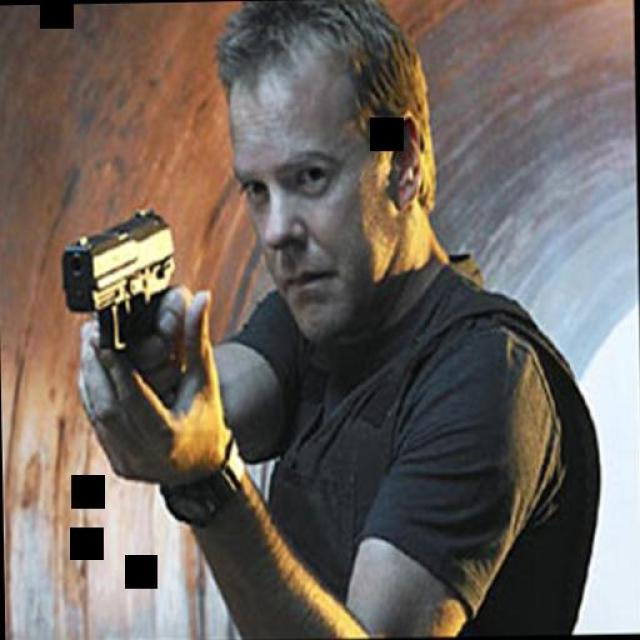gun: (60, 192, 189, 396)
